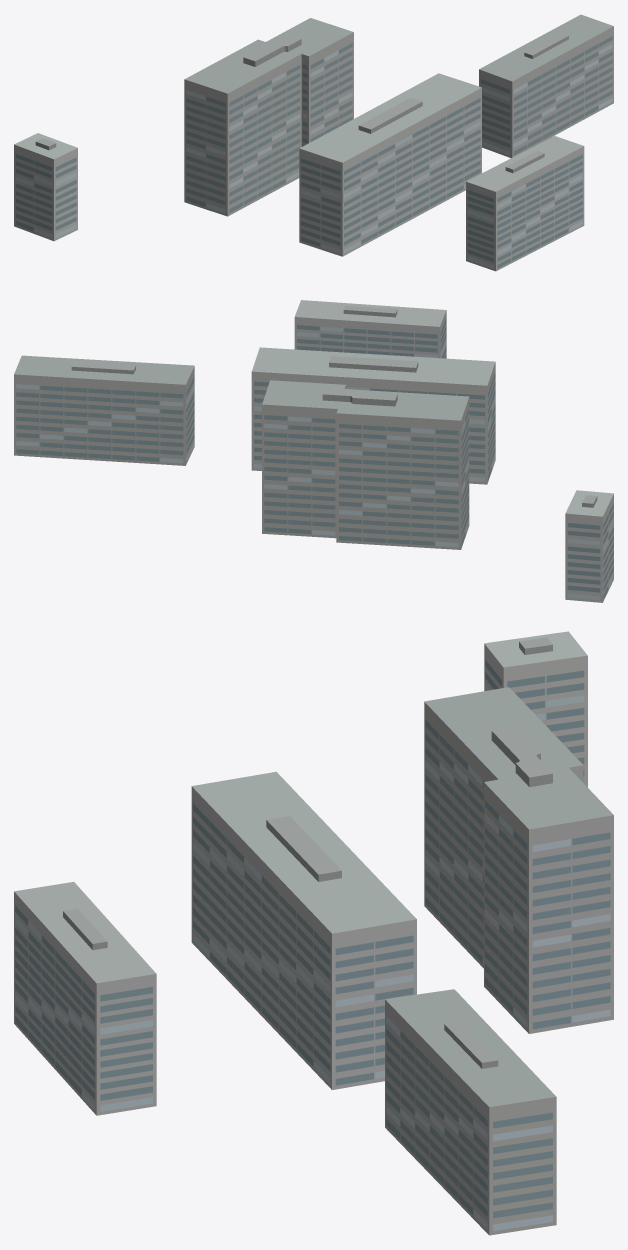
File: apt-a13786901.glb
The picture shows the model from 3 angles, top to bottom: view 1: azimuth 30°, elevation 25°; view 2: azimuth 150°, elevation 25°; view 3: azimuth 270°, elevation 25°; orthographic projection. The views are drawn at different scales.
Visible parts, largest first — view 1: apt-a13786901; view 2: apt-a13786901; view 3: apt-a13786901.
Boxes of the visible parts, x1,y1,x2,y2 form: apt-a13786901: (14, 14, 613, 271); apt-a13786901: (14, 300, 613, 602); apt-a13786901: (14, 631, 613, 1235).
Size of the model in its own units: 239 by 51 by 129.
